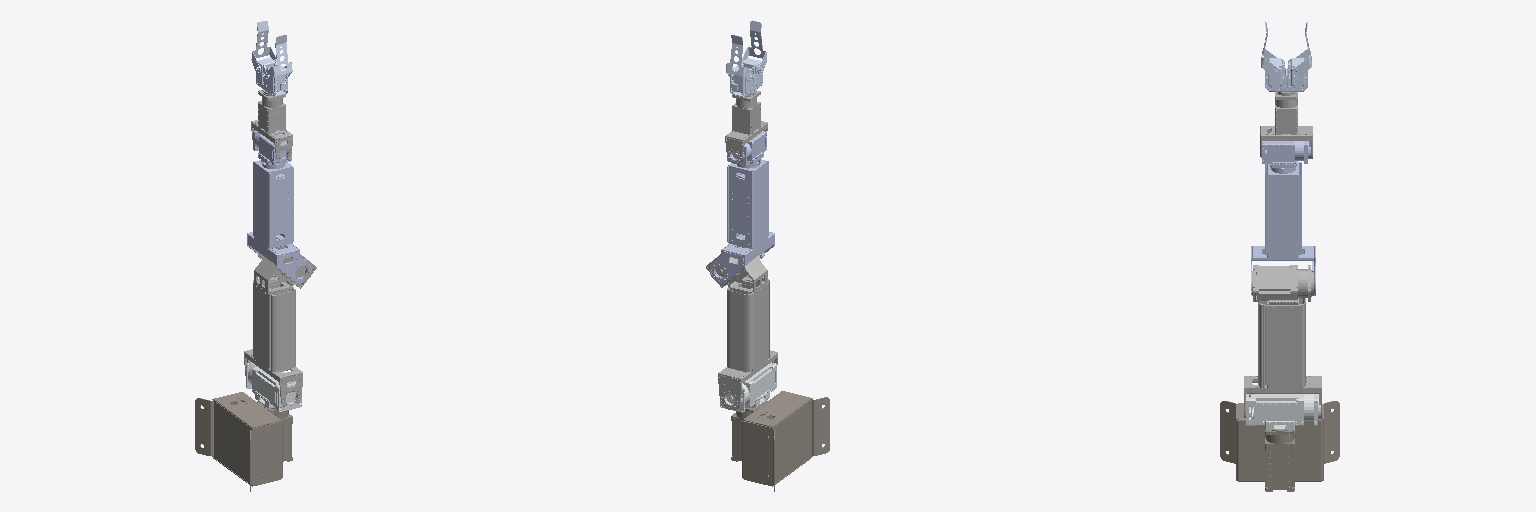
URDF robot description (h_arm_urdf):
<robot
  name="h_arm_urdf">
  <link
    name="arm_base_link">
    <inertial>
      <origin
        xyz="-0.025341 -0.00015693 0.00087354"
        rpy="0 0 0" />
      <mass
        value="1.6075" />
      <inertia
        ixx="0.0079143"
        ixy="-1.2323E-06"
        ixz="9.2385E-05"
        iyy="0.0053506"
        iyz="-7.6719E-06"
        izz="0.0072753" />
    </inertial>
    <visual>
      <origin
        xyz="0 0 0"
        rpy="0 0 0" />
      <geometry>
        <mesh
          filename="package://h_arm_urdf/meshes/arm_base_link.STL" />
      </geometry>
      <material
        name="">
        <color
          rgba="0.64706 0.61961 0.58824 1" />
      </material>
    </visual>
    <collision>
      <origin
        xyz="0 0 0"
        rpy="0 0 0" />
      <geometry>
        <mesh
          filename="package://h_arm_urdf/meshes/arm_base_link.STL" />
      </geometry>
    </collision>
  </link>
  <link
    name="arm_rotation1_link">
    <inertial>
      <origin
        xyz="-3.5191E-10 0.0073117 0.067899"
        rpy="0 0 0" />
      <mass
        value="0.35317" />
      <inertia
        ixx="0.00055596"
        ixy="9.2617E-12"
        ixz="9.2234E-12"
        iyy="0.00016945"
        iyz="6.1918E-06"
        izz="0.00055286" />
    </inertial>
    <visual>
      <origin
        xyz="0 0 0"
        rpy="0 0 0" />
      <geometry>
        <mesh
          filename="package://h_arm_urdf/meshes/arm_rotation1_link.STL" />
      </geometry>
      <material
        name="">
        <color
          rgba="0.89804 0.91765 0.92941 1" />
      </material>
    </visual>
    <collision>
      <origin
        xyz="0 0 0"
        rpy="0 0 0" />
      <geometry>
        <mesh
          filename="package://h_arm_urdf/meshes/arm_rotation1_link.STL" />
      </geometry>
    </collision>
  </link>
  <joint
    name="arm_rotation1_joint"
    type="revolute">
    <origin
      xyz="0.027 0 0.033"
      rpy="0 0 0" />
    <parent
      link="arm_base_link" />
    <child
      link="arm_rotation1_link" />
    <axis
      xyz="0 0 -1" />
    <limit
      effort="0"
      velocity="0" />
  </joint>
  <link
    name="arm_shoulder1_link">
    <inertial>
      <origin
        xyz="0.01628 -0.032683 0.20044"
        rpy="0 0 0" />
      <mass
        value="0.52217" />
      <inertia
        ixx="0.00437"
        ixy="-9.87E-07"
        ixz="0.00053636"
        iyy="0.0041046"
        iyz="-4.3615E-05"
        izz="0.00082919" />
    </inertial>
    <visual>
      <origin
        xyz="0 0 0"
        rpy="0 0 0" />
      <geometry>
        <mesh
          filename="package://h_arm_urdf/meshes/arm_shoulder1_link.STL" />
      </geometry>
      <material
        name="">
        <color
          rgba="0.75294 0.75294 0.75294 1" />
      </material>
    </visual>
    <collision>
      <origin
        xyz="0 0 0"
        rpy="0 0 0" />
      <geometry>
        <mesh
          filename="package://h_arm_urdf/meshes/arm_shoulder1_link.STL" />
      </geometry>
    </collision>
  </link>
  <joint
    name="arm_shoulder1_joint"
    type="revolute">
    <origin
      xyz="0 0.039 0.069"
      rpy="0 0 0" />
    <parent
      link="arm_rotation1_link" />
    <child
      link="arm_shoulder1_link" />
    <axis
      xyz="0 -1 0" />
    <limit
      effort="0"
      velocity="0" />
  </joint>
  <link
    name="arm_shoulder2_link">
    <inertial>
      <origin
        xyz="-0.029807 -0.020675 0.12921"
        rpy="0 0 0" />
      <mass
        value="0.44964" />
      <inertia
        ixx="0.0013957"
        ixy="2.2944E-06"
        ixz="-9.6791E-06"
        iyy="0.0013155"
        iyz="-1.6943E-05"
        izz="0.0003579" />
    </inertial>
    <visual>
      <origin
        xyz="0 0 0"
        rpy="0 0 0" />
      <geometry>
        <mesh
          filename="package://h_arm_urdf/meshes/arm_shoulder2_link.STL" />
      </geometry>
      <material
        name="">
        <color
          rgba="0.79216 0.81961 0.93333 1" />
      </material>
    </visual>
    <collision>
      <origin
        xyz="0 0 0"
        rpy="0 0 0" />
      <geometry>
        <mesh
          filename="package://h_arm_urdf/meshes/arm_shoulder2_link.STL" />
      </geometry>
    </collision>
  </link>
  <joint
    name="arm_shoulder2_joint"
    type="revolute">
    <origin
      xyz="0.029998 -0.012 0.264"
      rpy="0 0 0" />
    <parent
      link="arm_shoulder1_link" />
    <child
      link="arm_shoulder2_link" />
    <axis
      xyz="0 -1 0" />
    <limit
      effort="0"
      velocity="0" />
  </joint>
  <link
    name="arm_rotation2_link">
    <inertial>
      <origin
        xyz="1.2931E-08 0.0043427 0.097839"
        rpy="0 0 0" />
      <mass
        value="0.14367" />
      <inertia
        ixx="0.00010361"
        ixy="-8.012E-11"
        ixz="2.2317E-12"
        iyy="4.3409E-05"
        iyz="1.1487E-06"
        izz="0.00010218" />
    </inertial>
    <visual>
      <origin
        xyz="0 0 0"
        rpy="0 0 0" />
      <geometry>
        <mesh
          filename="package://h_arm_urdf/meshes/arm_rotation2_link.STL" />
      </geometry>
      <material
        name="">
        <color
          rgba="0.79216 0.81961 0.93333 1" />
      </material>
    </visual>
    <collision>
      <origin
        xyz="0 0 0"
        rpy="0 0 0" />
      <geometry>
        <mesh
          filename="package://h_arm_urdf/meshes/arm_rotation2_link.STL" />
      </geometry>
    </collision>
  </link>
  <joint
    name="arm_rotation2_joint"
    type="revolute">
    <origin
      xyz="-0.03 -0.021 0.159"
      rpy="0 0 0" />
    <parent
      link="arm_shoulder2_link" />
    <child
      link="arm_rotation2_link" />
    <axis
      xyz="0 0 -1" />
    <limit
      effort="0"
      velocity="0" />
  </joint>
  <link
    name="arm_shoulder3_link">
    <inertial>
      <origin
        xyz="3.9349E-11 -0.044252 0.069689"
        rpy="0 0 0" />
      <mass
        value="0.15954" />
      <inertia
        ixx="0.00018198"
        ixy="2.101E-13"
        ixz="-2.3374E-13"
        iyy="0.00015335"
        iyz="-5.6341E-06"
        izz="7.5641E-05" />
    </inertial>
    <visual>
      <origin
        xyz="0 0 0"
        rpy="0 0 0" />
      <geometry>
        <mesh
          filename="package://h_arm_urdf/meshes/arm_shoulder3_link.STL" />
      </geometry>
      <material
        name="">
        <color
          rgba="0.75294 0.75294 0.75294 1" />
      </material>
    </visual>
    <collision>
      <origin
        xyz="0 0 0"
        rpy="0 0 0" />
      <geometry>
        <mesh
          filename="package://h_arm_urdf/meshes/arm_shoulder3_link.STL" />
      </geometry>
    </collision>
  </link>
  <joint
    name="arm_shoulder3_joint"
    type="revolute">
    <origin
      xyz="0 0.051 0.099"
      rpy="0 0 0" />
    <parent
      link="arm_rotation2_link" />
    <child
      link="arm_shoulder3_link" />
    <axis
      xyz="0 -1 0" />
    <limit
      effort="0"
      velocity="0" />
  </joint>
  <link
    name="arm_wrist_link">
    <inertial>
      <origin
        xyz="2.0891E-05 6.5048E-10 0.030365"
        rpy="0 0 0" />
      <mass
        value="0.70734" />
      <inertia
        ixx="0.00048369"
        ixy="3.6682E-12"
        ixz="-3.0001E-06"
        iyy="0.00020635"
        iyz="5.4223E-12"
        izz="0.00043266" />
    </inertial>
    <visual>
      <origin
        xyz="0 0 0"
        rpy="0 0 0" />
      <geometry>
        <mesh
          filename="package://h_arm_urdf/meshes/arm_wrist_link.STL" />
      </geometry>
      <material
        name="">
        <color
          rgba="0.86667 0.9098 1 1" />
      </material>
    </visual>
    <collision>
      <origin
        xyz="0 0 0"
        rpy="0 0 0" />
      <geometry>
        <mesh
          filename="package://h_arm_urdf/meshes/arm_wrist_link.STL" />
      </geometry>
    </collision>
  </link>
  <joint
    name="arm_wrist_joint"
    type="revolute">
    <origin
      xyz="0 -0.045 0.123"
      rpy="0 0 0" />
    <parent
      link="arm_shoulder3_link" />
    <child
      link="arm_wrist_link" />
    <axis
      xyz="0 0 -1" />
    <limit
      effort="0"
      velocity="0" />
  </joint>
  <link
    name="gripper_r_link">
    <inertial>
      <origin
        xyz="-1.7347E-18 -0.0098347 0.012635"
        rpy="0 0 0" />
      <mass
        value="0.011198" />
      <inertia
        ixx="9.7735E-06"
        ixy="-8.7071E-22"
        ixz="9.4228E-21"
        iyy="1.1665E-05"
        iyz="7.8401E-07"
        izz="3.3484E-06" />
    </inertial>
    <visual>
      <origin
        xyz="0 0 0"
        rpy="0 0 0" />
      <geometry>
        <mesh
          filename="package://h_arm_urdf/meshes/gripper_r_link.STL" />
      </geometry>
      <material
        name="">
        <color
          rgba="0.86667 0.9098 1 1" />
      </material>
    </visual>
    <collision>
      <origin
        xyz="0 0 0"
        rpy="0 0 0" />
      <geometry>
        <mesh
          filename="package://h_arm_urdf/meshes/gripper_r_link.STL" />
      </geometry>
    </collision>
  </link>
  <joint
    name="gripper_r_joint"
    type="revolute">
    <origin
      xyz="0 0.045707 0.062976"
      rpy="0 0 0" />
    <parent
      link="arm_wrist_link" />
    <child
      link="gripper_r_link" />
    <axis
      xyz="-1 0 0" />
    <limit
      effort="0"
      velocity="0" />
  </joint>
  <link
    name="gripper_l_link">
    <inertial>
      <origin
        xyz="-3.6429E-17 0.0098347 0.012635"
        rpy="0 0 0" />
      <mass
        value="0.011198" />
      <inertia
        ixx="9.7735E-06"
        ixy="1.8288E-21"
        ixz="-5.3309E-21"
        iyy="1.1665E-05"
        iyz="-7.8401E-07"
        izz="3.3484E-06" />
    </inertial>
    <visual>
      <origin
        xyz="0 0 0"
        rpy="0 0 0" />
      <geometry>
        <mesh
          filename="package://h_arm_urdf/meshes/gripper_l_link.STL" />
      </geometry>
      <material
        name="">
        <color
          rgba="0.86667 0.9098 1 1" />
      </material>
    </visual>
    <collision>
      <origin
        xyz="0 0 0"
        rpy="0 0 0" />
      <geometry>
        <mesh
          filename="package://h_arm_urdf/meshes/gripper_l_link.STL" />
      </geometry>
    </collision>
  </link>
  <joint
    name="gripper_l_joint"
    type="revolute">
    <origin
      xyz="0 -0.045707 0.062976"
      rpy="0 0 0" />
    <parent
      link="arm_wrist_link" />
    <child
      link="gripper_l_link" />
    <axis
      xyz="-1 0 0" />
    <limit
      effort="0"
      velocity="0" />
  </joint>
</robot>

--- Facts derived from the render (not from the file) ---
3 views of the same robot in one strip: view 1: azimuth 30°, elevation 25°; view 2: azimuth 150°, elevation 25°; view 3: azimuth 270°, elevation 25° (orthographic).
Model h_arm_urdf with 9 links and 8 joints (8 revolute), rooted at arm_base_link, posed all joints at 0.
Links seen in each view (by area): view 1: arm_base_link, arm_shoulder1_link, arm_shoulder2_link, arm_shoulder3_link, arm_rotation1_link, arm_wrist_link, arm_rotation2_link, gripper_l_link; view 2: arm_base_link, arm_shoulder1_link, arm_shoulder2_link, arm_shoulder3_link, arm_rotation1_link, arm_wrist_link, arm_rotation2_link, gripper_r_link, gripper_l_link; view 3: arm_base_link, arm_shoulder1_link, arm_shoulder2_link, arm_rotation1_link, arm_shoulder3_link, arm_rotation2_link, arm_wrist_link.
Boxes of the visible links, x1,y1,x2,y2 form: arm_base_link: (195, 392, 292, 491); arm_shoulder1_link: (244, 247, 316, 406); arm_shoulder2_link: (247, 160, 311, 282); arm_shoulder3_link: (251, 90, 292, 159); arm_rotation1_link: (246, 362, 301, 411); arm_wrist_link: (255, 58, 288, 96); arm_rotation2_link: (253, 131, 291, 164); gripper_l_link: (265, 35, 292, 81); arm_base_link: (731, 391, 829, 491); arm_shoulder1_link: (706, 246, 777, 409); arm_shoulder2_link: (709, 159, 774, 283); arm_shoulder3_link: (725, 90, 767, 163); arm_rotation1_link: (720, 362, 776, 412); arm_wrist_link: (729, 58, 762, 96); arm_rotation2_link: (727, 131, 766, 165); gripper_r_link: (726, 35, 753, 82); gripper_l_link: (742, 20, 766, 74); arm_base_link: (1220, 401, 1339, 491); arm_shoulder1_link: (1244, 265, 1321, 419); arm_shoulder2_link: (1251, 161, 1315, 295); arm_rotation1_link: (1246, 394, 1320, 429); arm_shoulder3_link: (1260, 92, 1312, 158); arm_rotation2_link: (1262, 141, 1310, 167); arm_wrist_link: (1265, 58, 1307, 91).
Bounding box of the posed robot: 0.187 × 0.2206 × 0.9464 m (x, y, z).
9 mesh visuals loaded from 9 distinct referenced files (9 binary STL).